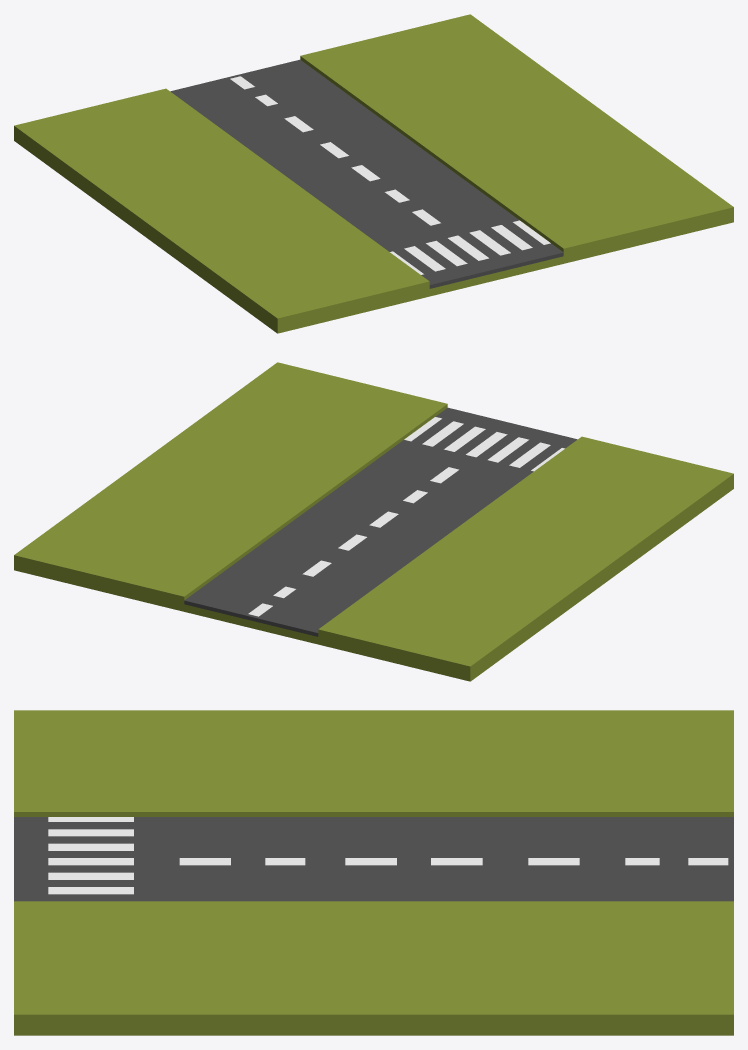
Rendered from map v1.0-34.obj.
3 views of the same model, one above another, from view 1: azimuth 30°, elevation 25°; view 2: azimuth 150°, elevation 25°; view 3: azimuth 270°, elevation 25° (orthographic). The views are drawn at different scales.
Size of the model in its own units: 12.6 by 0.4 by 12.6.
1 material, 1 textured.
